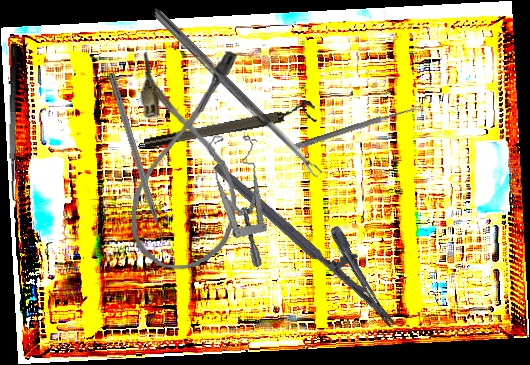Cannula: (129, 46, 244, 273)
Fixation Ring: (141, 98, 318, 152)
Hook Surgical: (106, 72, 167, 248)
Needle Holder: (212, 137, 418, 330)
Spatula Surgical: (3, 43, 32, 205)
Speculum: (188, 128, 285, 269)
Surgical Spoon: (149, 6, 323, 180), (291, 103, 422, 152)
